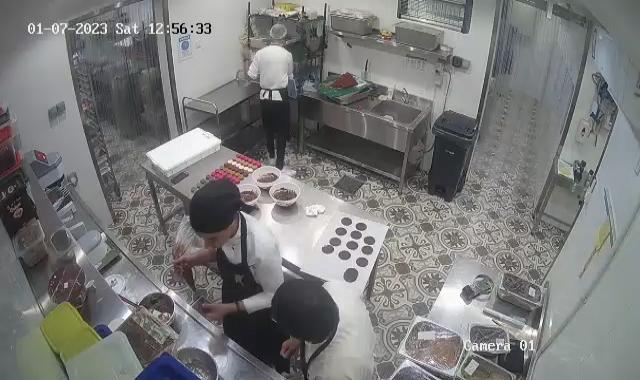hairnet: (268, 20, 288, 47)
no_hairnet: (270, 280, 339, 344), (190, 180, 242, 244)
